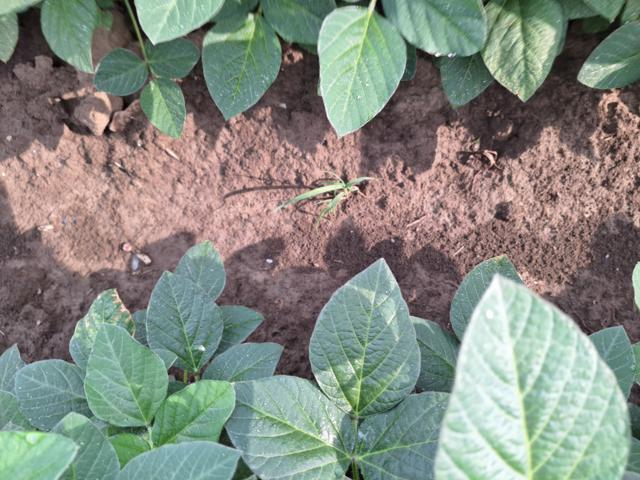bad weed: (272, 163, 384, 221)
